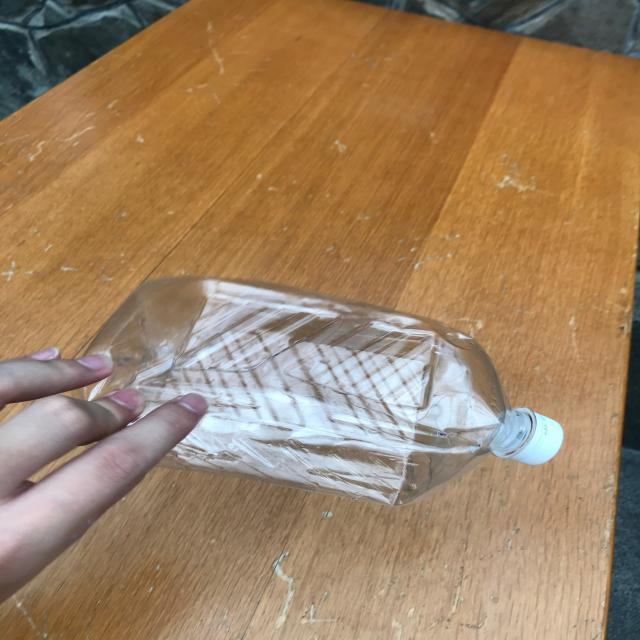plastic_bottle: (84, 276, 565, 506)
